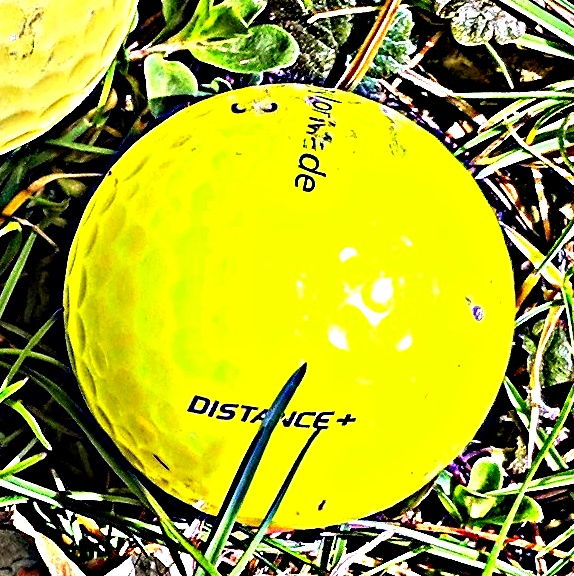ball: (63, 89, 516, 537)
